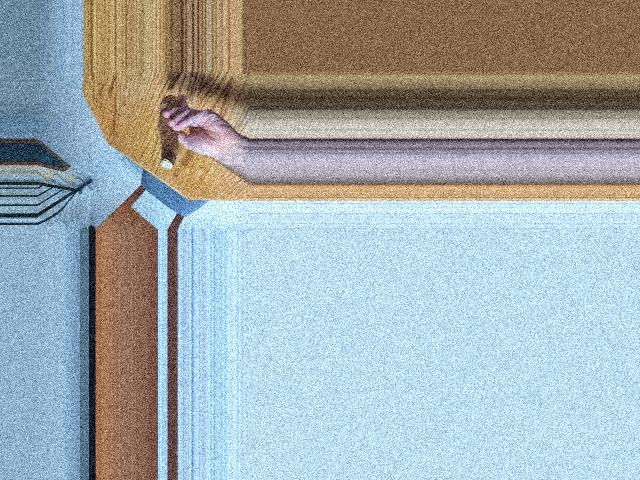sweet_potato: (152, 100, 183, 164)
